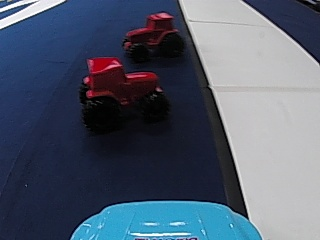Tracktor: (76, 52, 168, 132), (122, 9, 183, 62)
